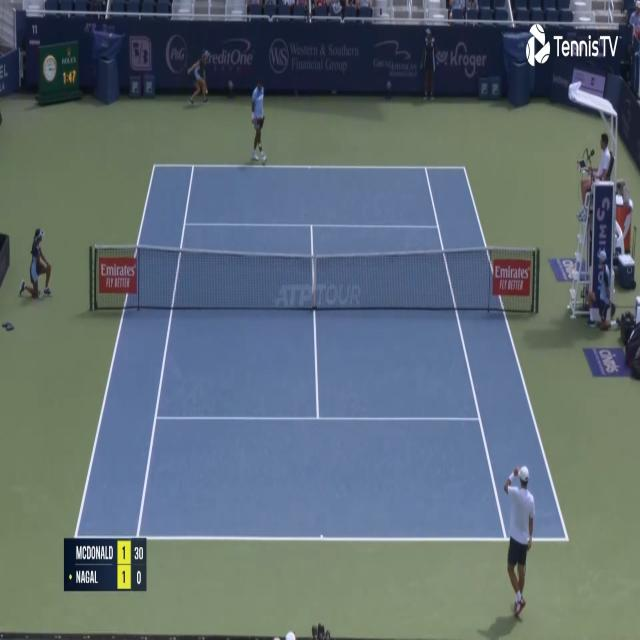tennis-player: (501, 462, 537, 622), (248, 72, 269, 165)
